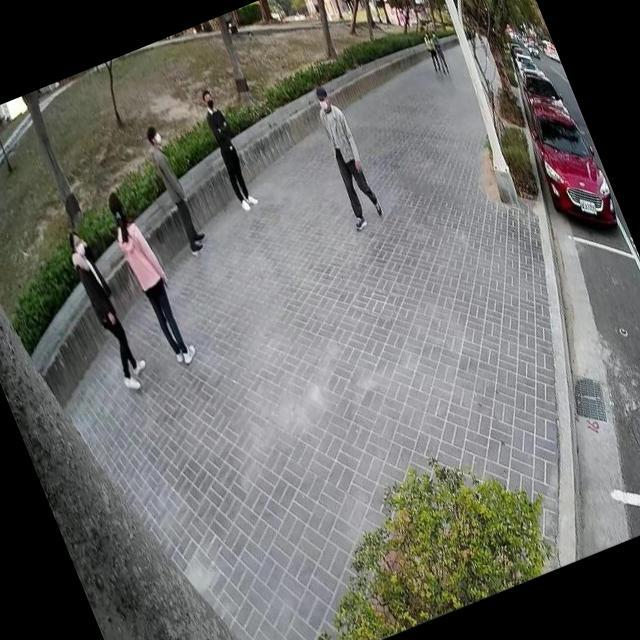person: (94, 178, 200, 373), (56, 217, 156, 396), (297, 76, 389, 236), (136, 117, 212, 260), (191, 82, 264, 216), (426, 27, 452, 75), (418, 26, 444, 74)
